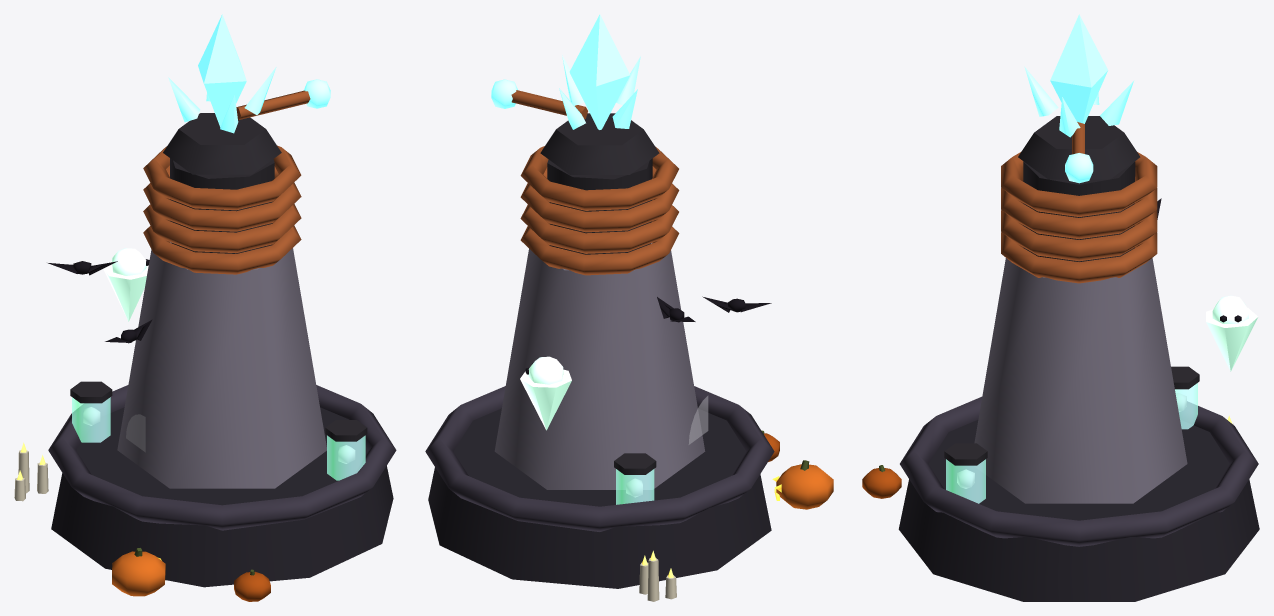
Rendered from tower_chain.glb.
The picture shows the model from 3 angles, left to right: view 1: azimuth 30°, elevation 25°; view 2: azimuth 150°, elevation 25°; view 3: azimuth 270°, elevation 25°; orthographic projection. The views are drawn at different scales.
Visible parts, largest first — view 1: shaft, base, base_rim, cap, coil_3, coil_2, coil_1, coil_0, crystal_core, coil_core, deco_hw_jack_body, deco_hw_jar_1_glass (+11 smaller); view 2: shaft, base, base_rim, cap, coil_3, crystal_core, coil_2, coil_1, coil_0, coil_core, deco_hw_jack_body, deco_hw_ghost_sheet (+7 smaller); view 3: shaft, base, base_rim, cap, coil_3, coil_2, coil_1, coil_0, crystal_core, coil_core, deco_hw_ghost_sheet, deco_hw_jar_0_glass (+8 smaller).
Part boxes in pixels (x1,y1,x2,y2): shaft: (117, 242, 326, 488); base: (51, 407, 393, 587); base_rim: (48, 385, 396, 530); cap: (163, 113, 281, 174); coil_3: (143, 145, 301, 210); coil_2: (143, 165, 301, 231); coil_1: (143, 204, 301, 253); coil_0: (143, 225, 301, 274); crystal_core: (198, 14, 246, 127); coil_core: (170, 158, 274, 253); deco_hw_jack_body: (112, 551, 165, 596); deco_hw_jar_1_glass: (72, 397, 110, 442); shaft: (494, 243, 705, 489); base: (428, 408, 771, 588); base_rim: (425, 386, 774, 531); cap: (540, 113, 659, 174); coil_3: (520, 146, 678, 210); crystal_core: (569, 14, 630, 129); coil_2: (520, 166, 679, 232); coil_1: (520, 204, 678, 253); coil_0: (520, 226, 679, 275); coil_core: (547, 158, 652, 254); deco_hw_jack_body: (776, 464, 833, 509); deco_hw_ghost_sheet: (520, 369, 571, 430); shaft: (974, 258, 1187, 503); base: (898, 420, 1259, 601); base_rim: (900, 396, 1258, 546); cap: (1018, 116, 1140, 179); coil_3: (1001, 152, 1157, 217); coil_2: (1001, 188, 1157, 239); coil_1: (1001, 210, 1157, 261); coil_0: (1001, 232, 1157, 283); crystal_core: (1050, 14, 1108, 123); coil_core: (1023, 161, 1135, 261); deco_hw_ghost_sheet: (1206, 307, 1257, 371); deco_hw_jar_0_glass: (946, 459, 985, 503).
Size of the model in its own units: 0.4215 by 0.63 by 0.4404.
